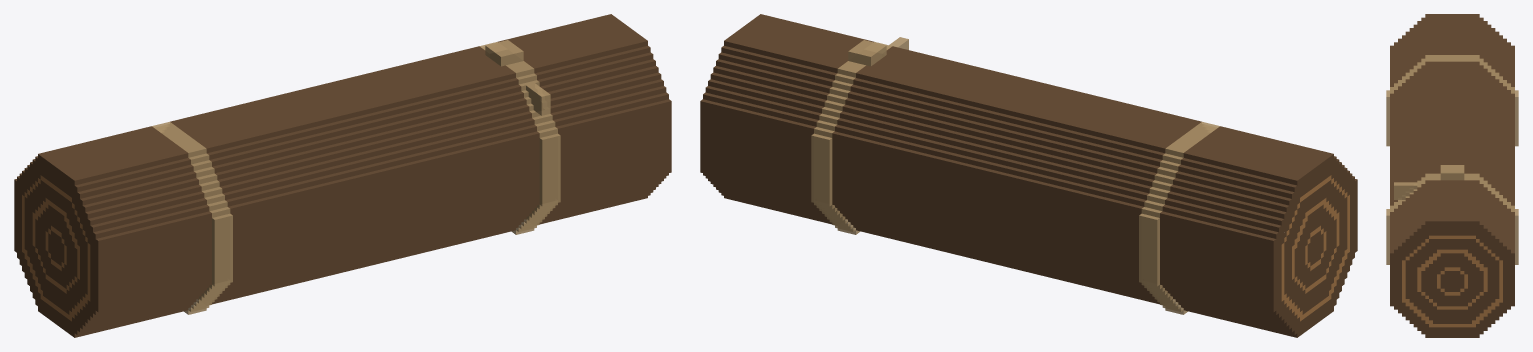
Rendered from fur_rollmat.glb.
The picture shows the model from 3 angles, left to right: view 1: azimuth 30°, elevation 25°; view 2: azimuth 150°, elevation 25°; view 3: azimuth 270°, elevation 25°; orthographic projection. The views are drawn at different scales.
Visible parts, largest first — view 1: fur_rollmat:compound; view 2: fur_rollmat:compound; view 3: fur_rollmat:compound.
Part boxes in pixels (x1,y1,x2,y2): fur_rollmat:compound: [14, 14, 671, 337]; fur_rollmat:compound: [700, 14, 1357, 337]; fur_rollmat:compound: [1386, 14, 1518, 337].
Bounding box in the file's own units: 0.504 × 0.144 × 0.136.
